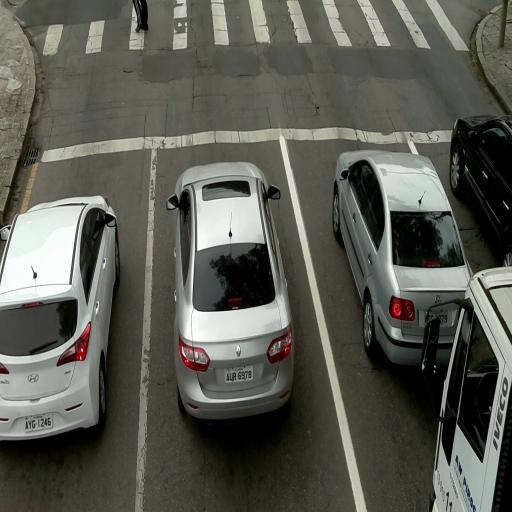car: (167, 162, 292, 422), (0, 196, 121, 438), (333, 150, 468, 366), (448, 114, 512, 264)
others: (422, 267, 512, 509)
